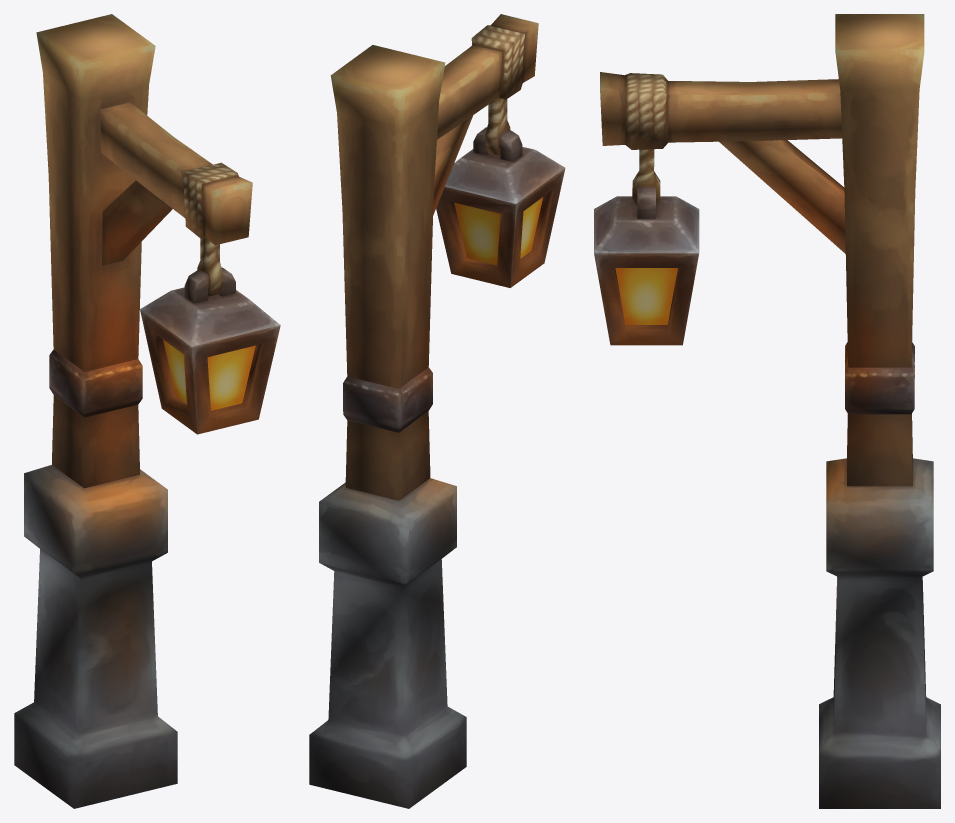
3 views of the same model, side by side, from view 1: azimuth 30°, elevation 25°; view 2: azimuth 150°, elevation 25°; view 3: azimuth 270°, elevation 25° (orthographic). The views are drawn at different scales.
Parts seen in each view (by area): view 1: lantern-pole; view 2: lantern-pole; view 3: lantern-pole.
Boxes of the visible parts, left/top/right/bottom form: lantern-pole: left=14, top=14, right=280, bottom=808; lantern-pole: left=309, top=14, right=565, bottom=808; lantern-pole: left=594, top=14, right=940, bottom=808.
Bounding box in the file's own units: 0.8787 × 5.96 × 2.5.
Materials: 1 (1 with a texture image).
